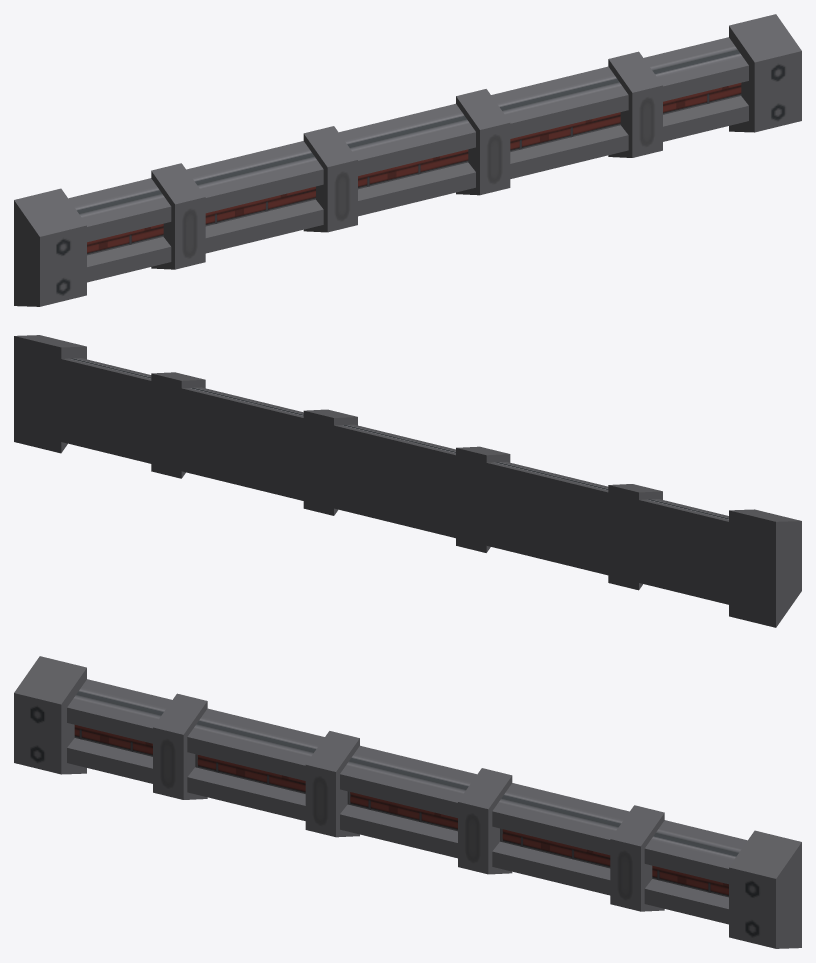
File: SM_Bld_Wall_Trim_04.fbx
The picture shows the model from 3 angles, top to bottom: view 1: azimuth 30°, elevation 25°; view 2: azimuth 150°, elevation 25°; view 3: azimuth 330°, elevation 25°; orthographic projection.
Visible parts, largest first — view 1: SM_Bld_Wall_Trim_04; view 2: SM_Bld_Wall_Trim_04; view 3: SM_Bld_Wall_Trim_04.
Boxes of the visible parts, left/top/right/bottom form: SM_Bld_Wall_Trim_04: left=14, top=14, right=801, bottom=306; SM_Bld_Wall_Trim_04: left=14, top=335, right=801, bottom=627; SM_Bld_Wall_Trim_04: left=14, top=656, right=801, bottom=948.
Size of the model in its own units: 250 by 33.24 by 14.69.
